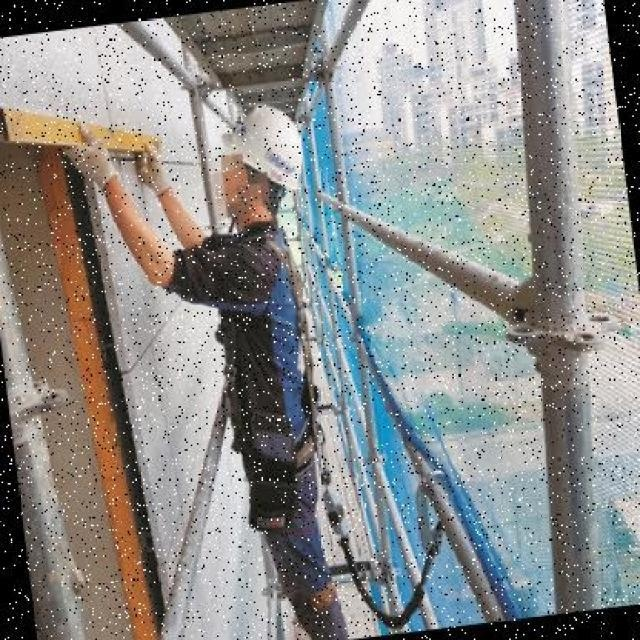Arnes_seguridad: (203, 207, 345, 552)
